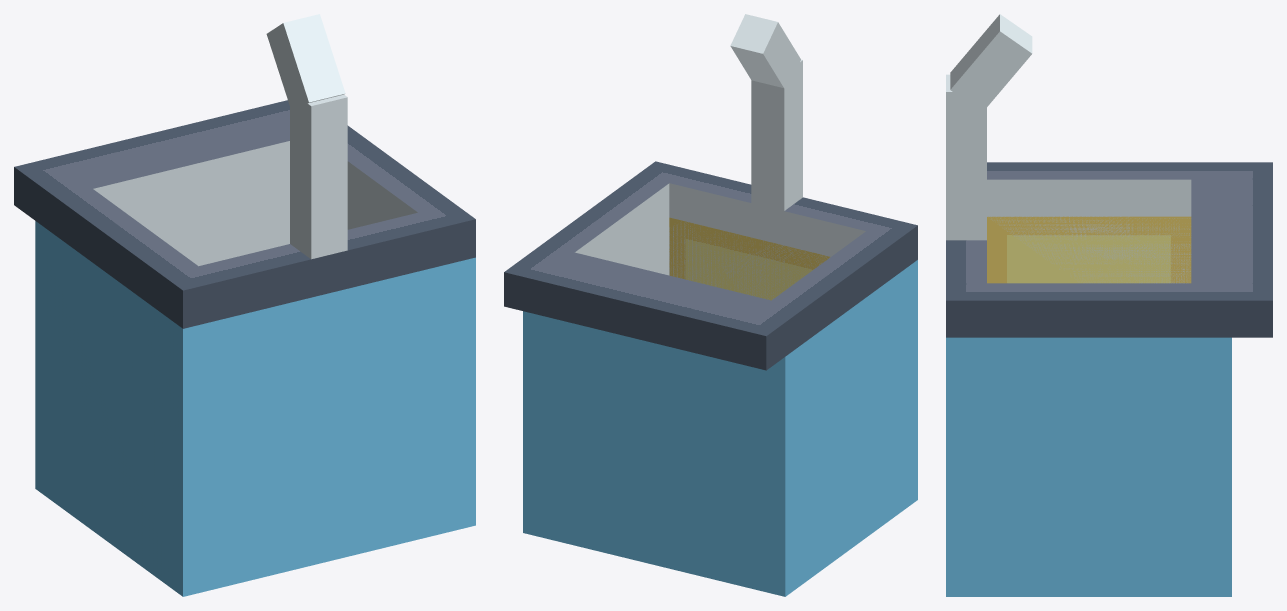
Rendered from sink.gltf.
The picture shows the model from 3 angles, left to right: view 1: azimuth 30°, elevation 25°; view 2: azimuth 150°, elevation 25°; view 3: azimuth 270°, elevation 25°; orthographic projection. The views are drawn at different scales.
Visible parts, largest first — view 1: base, top, tap, basin; view 2: base, top, tap, basin; view 3: base, top, basin, tap.
Part boxes in pixels (left/top/right/bottom): base: left=35, top=221, right=475, bottom=596; top: left=14, top=100, right=475, bottom=328; tap: left=266, top=14, right=347, bottom=259; basin: left=132, top=179, right=378, bottom=266; base: left=523, top=260, right=917, bottom=596; top: left=504, top=161, right=917, bottom=370; tap: left=730, top=14, right=802, bottom=210; basin: left=610, top=217, right=830, bottom=300; base: left=946, top=337, right=1231, bottom=596; top: left=946, top=162, right=1272, bottom=337; basin: left=987, top=216, right=1191, bottom=283; tap: left=946, top=14, right=1032, bottom=240.
Size of the model in its own units: 1 by 1.71 by 1.
1 material, 1 textured.
